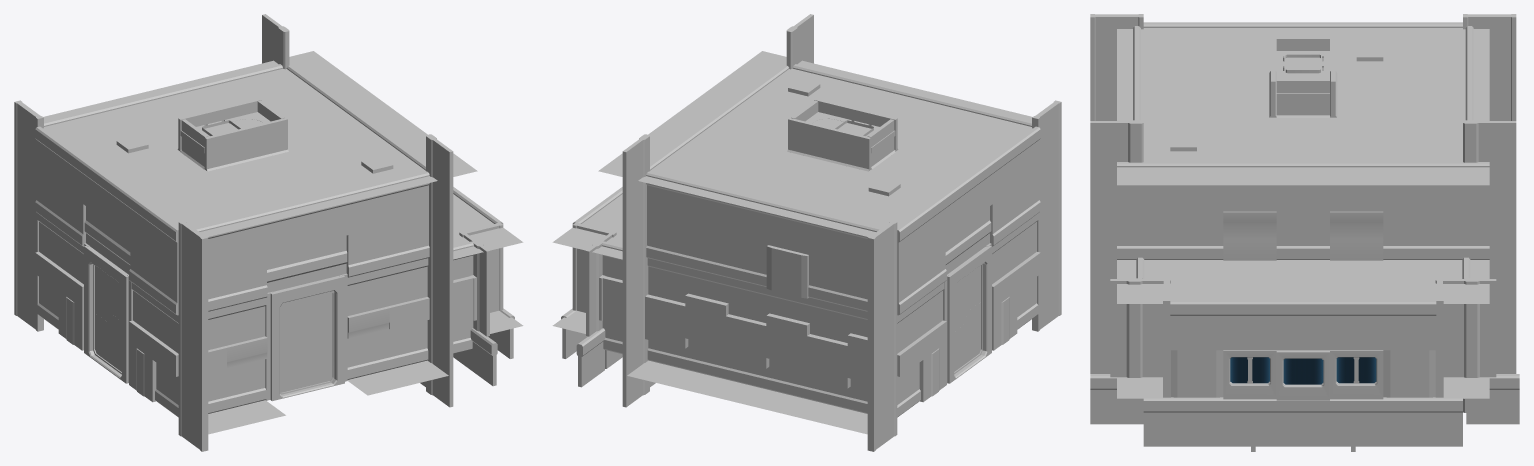
The model's file is Map.dae.
3 views of the same model, side by side, from view 1: azimuth 30°, elevation 25°; view 2: azimuth 150°, elevation 25°; view 3: azimuth 270°, elevation 25° (orthographic). The views are drawn at different scales.
Parts seen in each view (by area): view 1: node; view 2: node; view 3: node.
Boxes of the visible parts, box(x1,y1,x2,y2) form: node: box(14, 14, 523, 451); node: box(552, 14, 1061, 451); node: box(1090, 14, 1519, 451).
Bounding box in the file's own units: 33.69 × 24 × 32.25.
